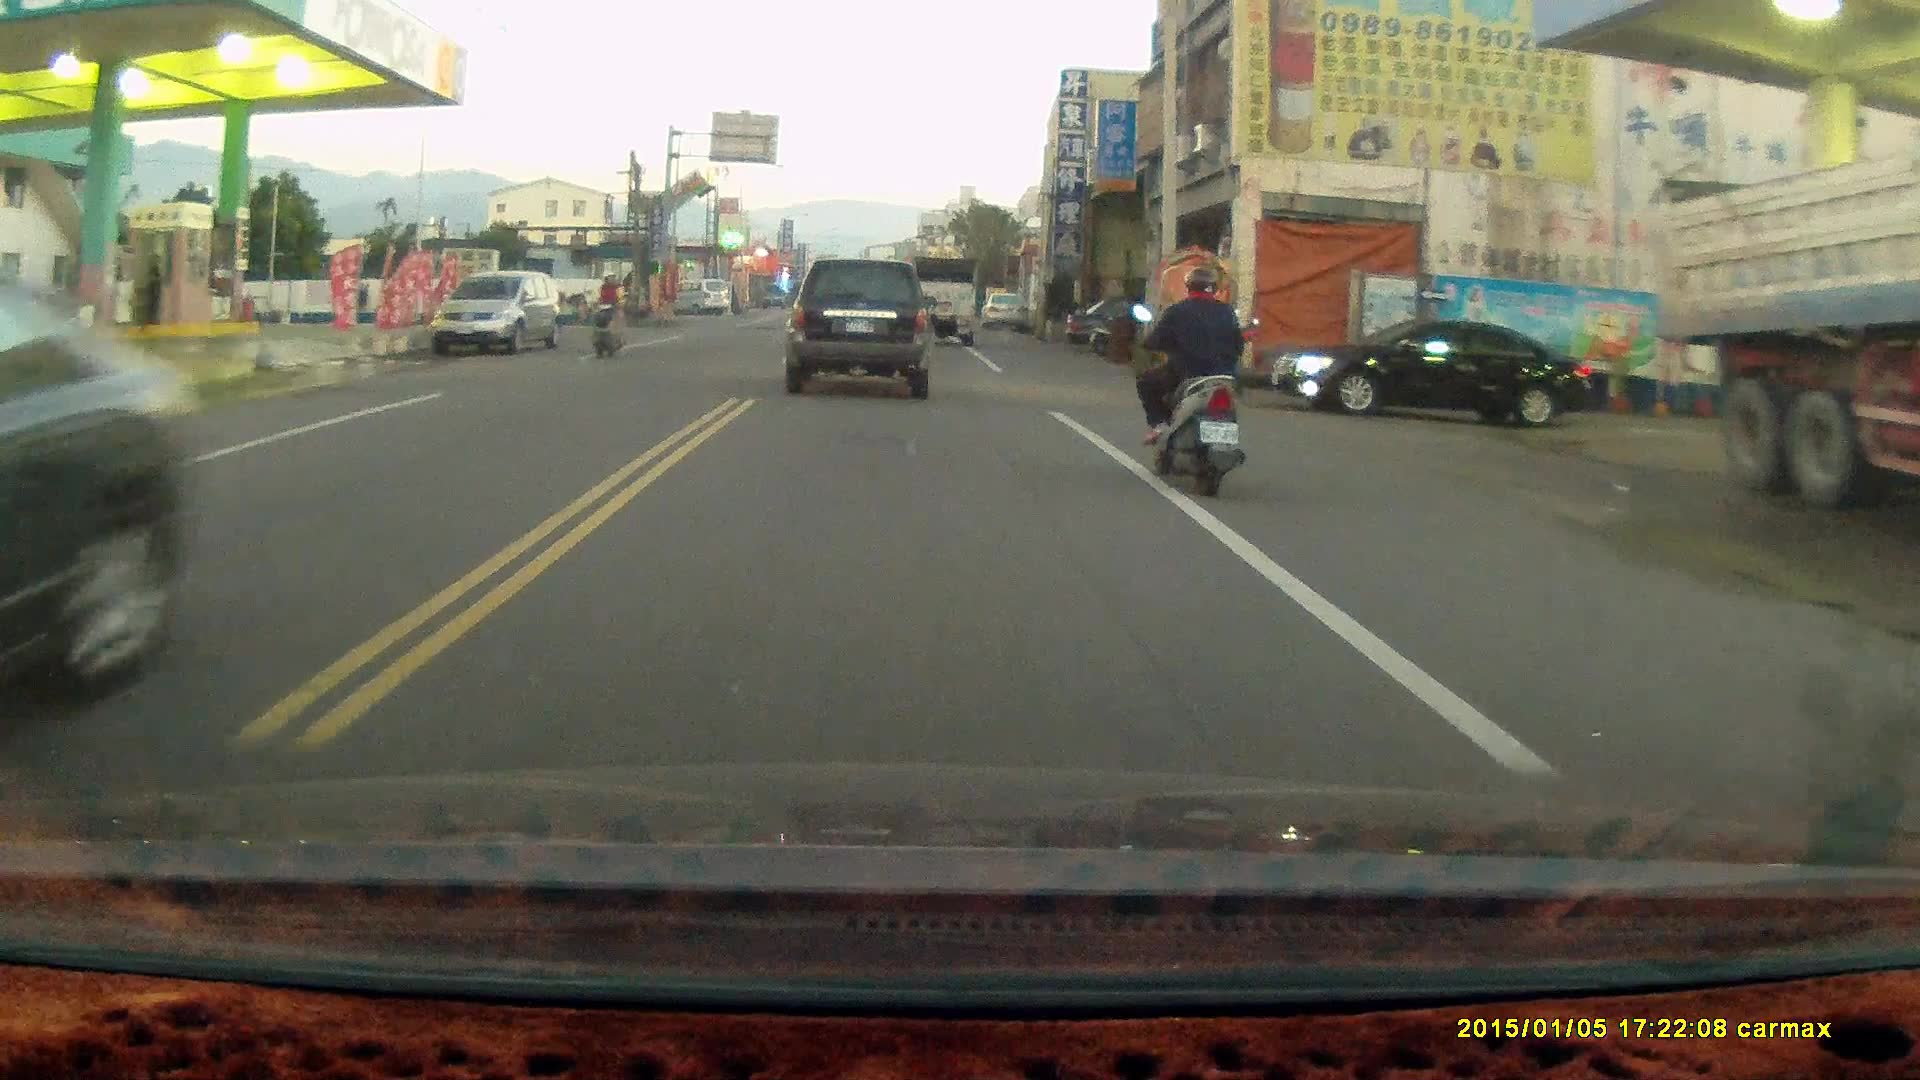rider: (1128, 268, 1242, 499), (581, 269, 622, 362)
vehicle: (1658, 127, 1920, 509), (1, 262, 197, 744), (1265, 322, 1607, 427), (790, 259, 937, 400), (433, 271, 560, 363), (897, 254, 979, 347)
